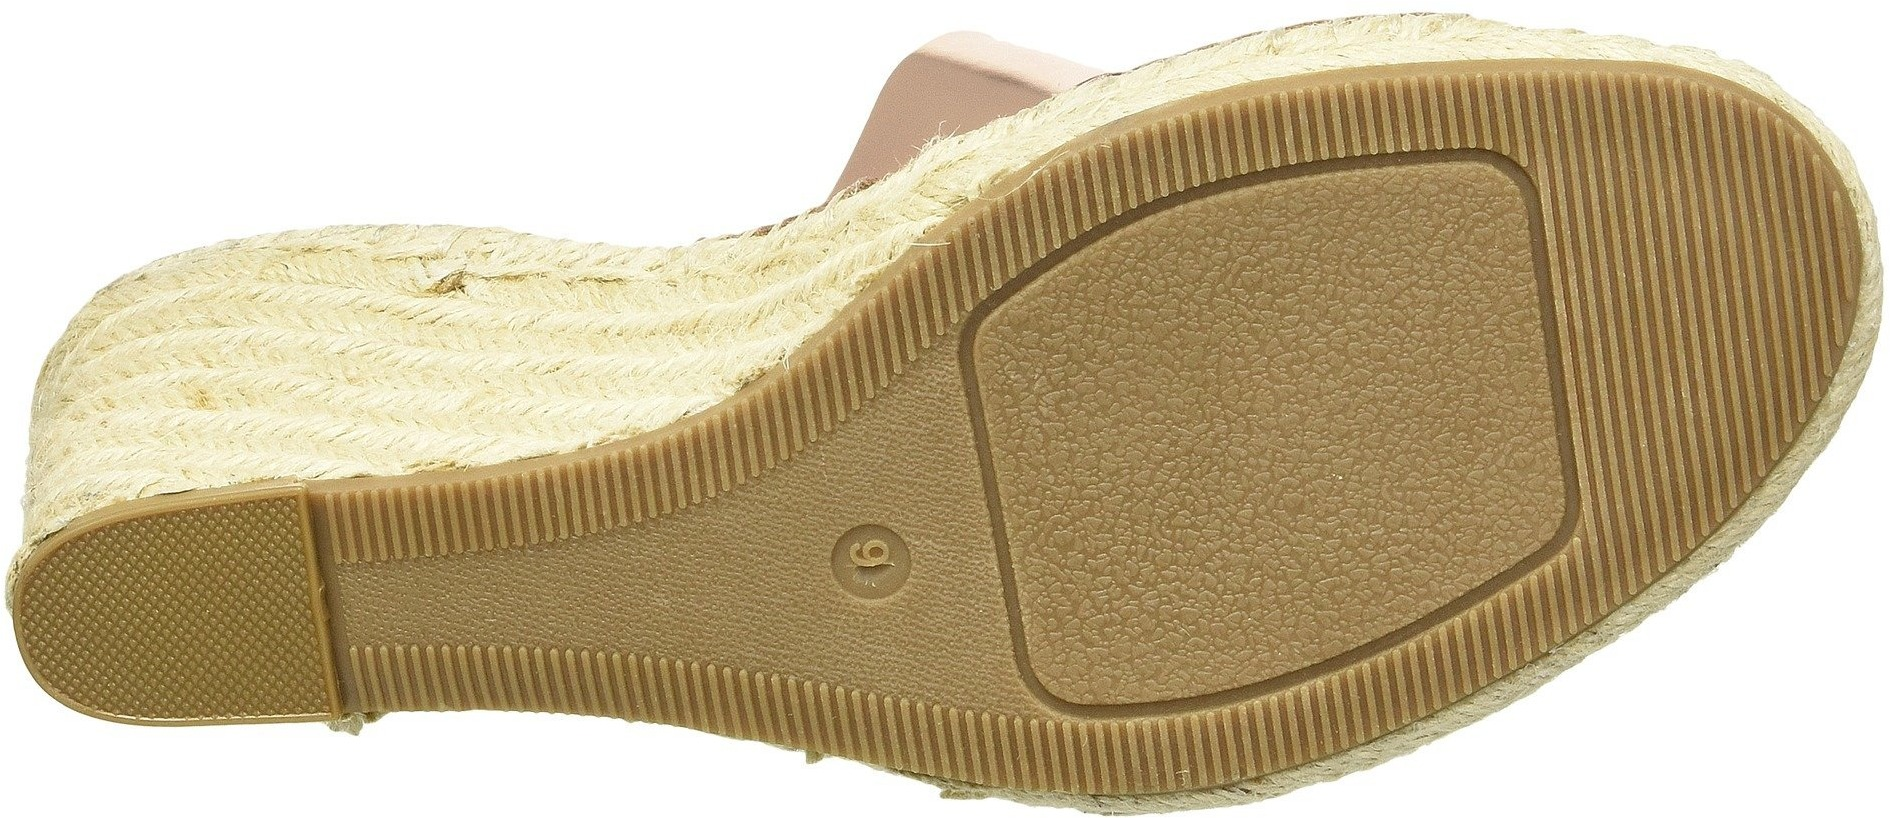circle: (812, 505, 933, 629), (815, 510, 926, 619)
exclude: (319, 717, 391, 757)
line: (1580, 105, 1751, 293), (1618, 319, 1761, 461)
other: (1270, 186, 1526, 439), (1015, 316, 1266, 534), (1274, 445, 1445, 614), (108, 529, 266, 701), (1032, 539, 1199, 685), (655, 524, 793, 661), (1157, 226, 1254, 320), (445, 563, 544, 646), (865, 442, 941, 514), (1119, 723, 1186, 801), (852, 316, 916, 386)
text: (812, 505, 933, 629), (841, 520, 903, 588)
